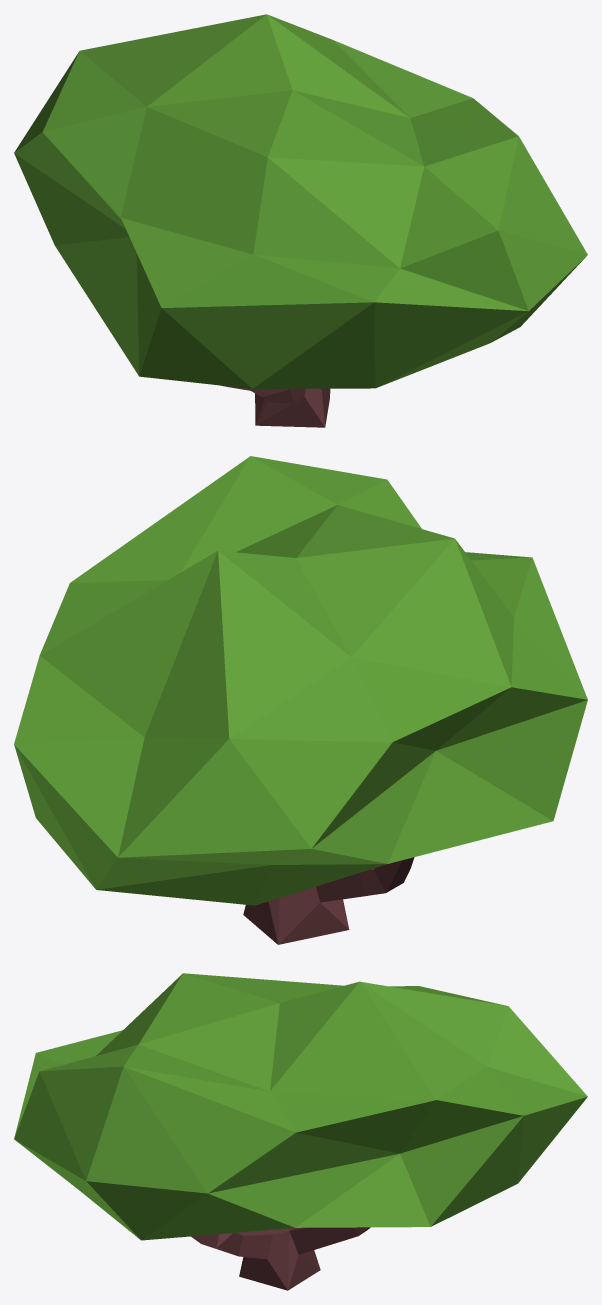
File: Bush2.fbx
3 renders of one model, top to bottom at view 1: azimuth 30°, elevation 25°; view 2: azimuth 150°, elevation 25°; view 3: azimuth 270°, elevation 25°, orthographic. The views are drawn at different scales.
Visible parts, largest first — view 1: Leaves8, Trunk8; view 2: Leaves8, Trunk8; view 3: Leaves8, Trunk8.
Part boxes in pixels (left/top/right/bottom): Leaves8: left=14, top=14, right=587, bottom=388; Trunk8: left=221, top=385, right=330, bottom=427; Leaves8: left=14, top=456, right=587, bottom=905; Trunk8: left=243, top=857, right=414, bottom=944; Leaves8: left=14, top=973, right=587, bottom=1240; Trunk8: left=191, top=1227, right=370, bottom=1290.
Size of the model in its own units: 163 by 138 by 239.
